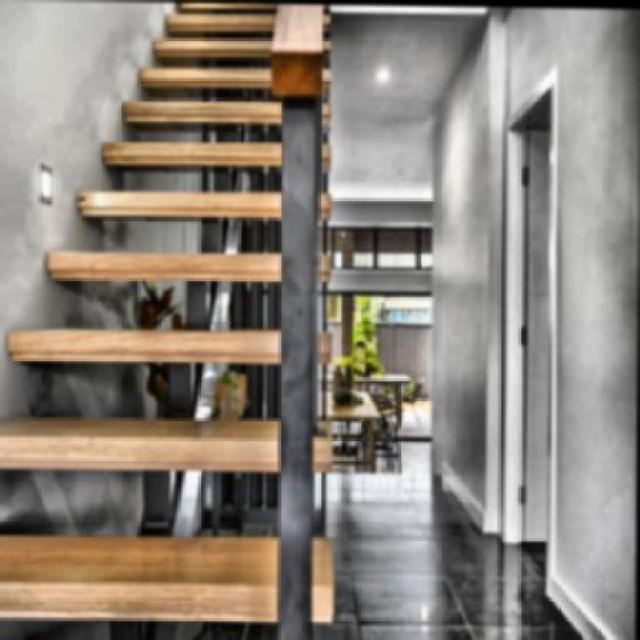stair: (18, 0, 337, 611)
